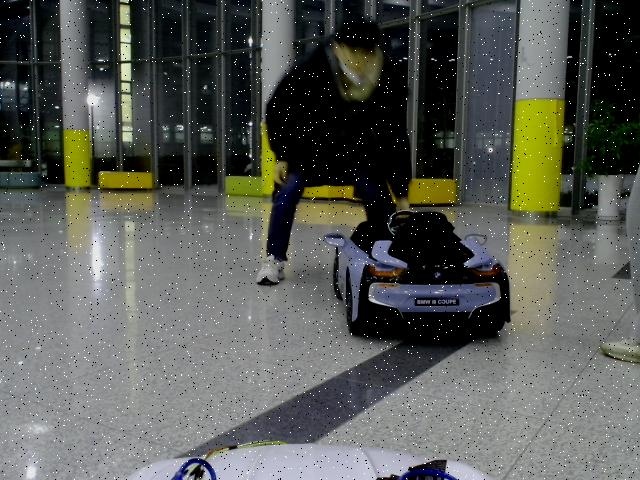car: (324, 210, 511, 337)
